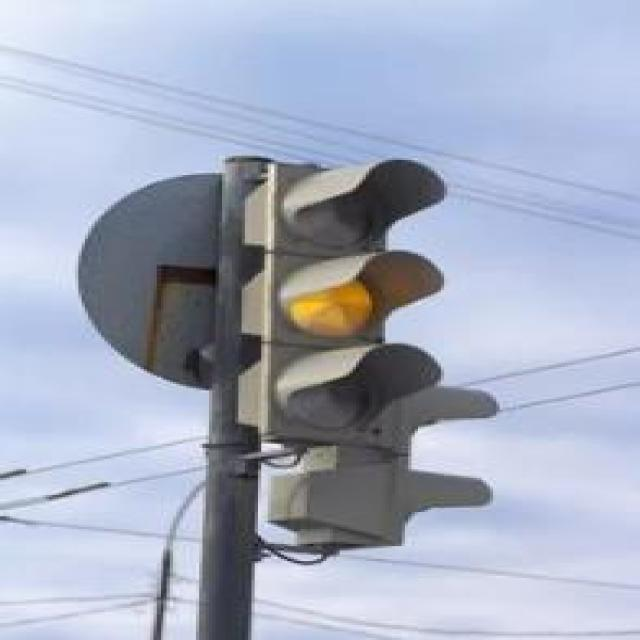traffic light: (229, 156, 449, 452)
